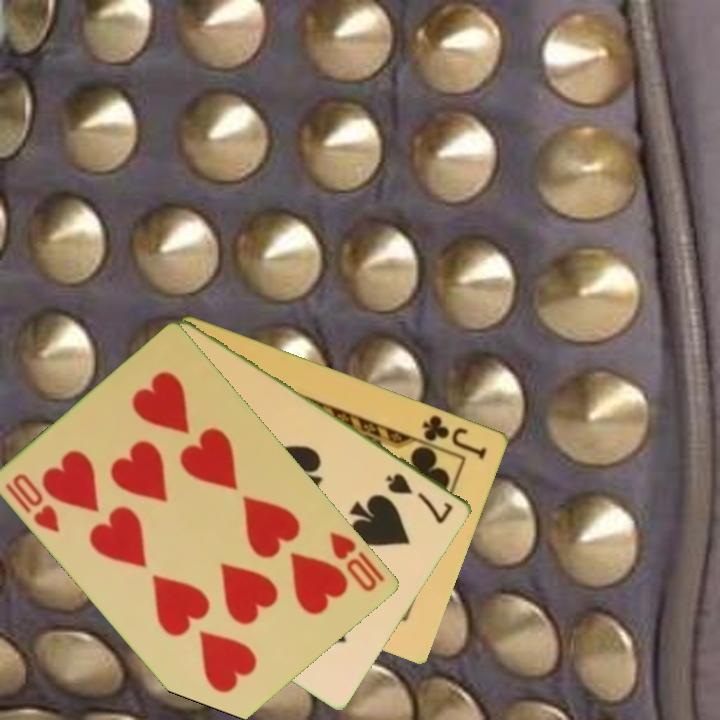10h: (326, 528, 389, 595), (2, 470, 64, 536)
7s: (382, 469, 457, 527)
Jc: (419, 411, 490, 462)
